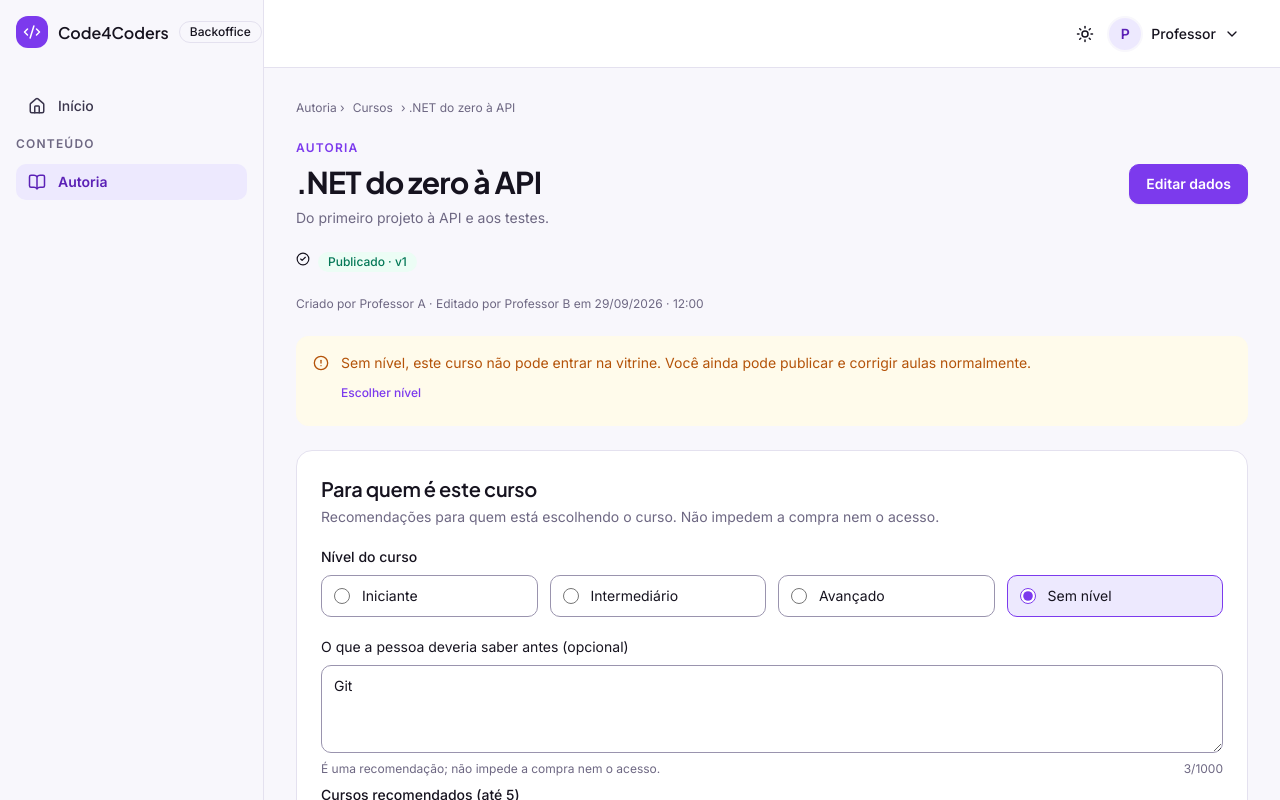
authoring prerequisite › counts text, enforces the limit and clearing sends null and an empty list
Check: the text "3/1000" is shown, box [1184,761,1223,777]
Clear the text box labelled "O que a pessoa deveria saber antes (opcional)": (772, 709) [321,665,1223,753]
(page scrolled)
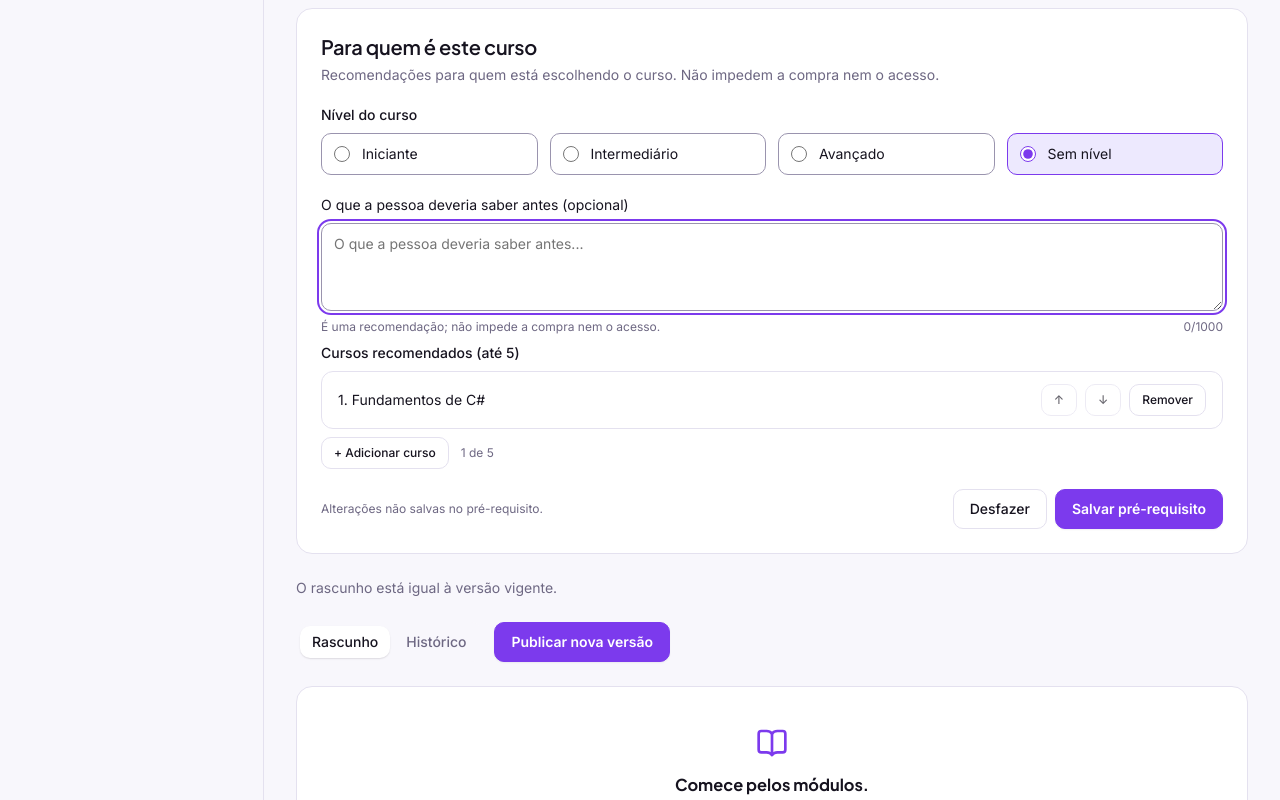
Click the button with aria-label "Remover Fundamentos de C#": (1168, 400) [1129,384,1206,416]
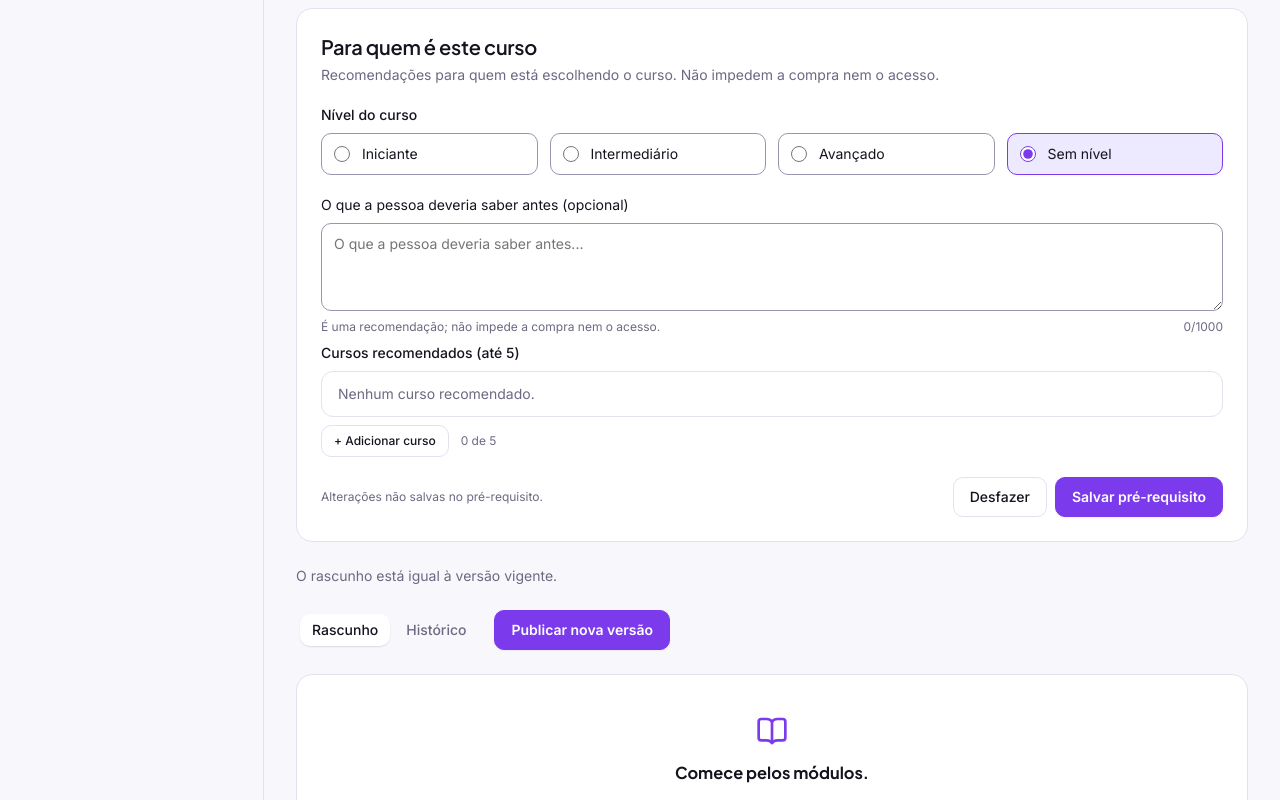
Click the button "Salvar pré-requisito": (1139, 497) [1055,477,1223,517]
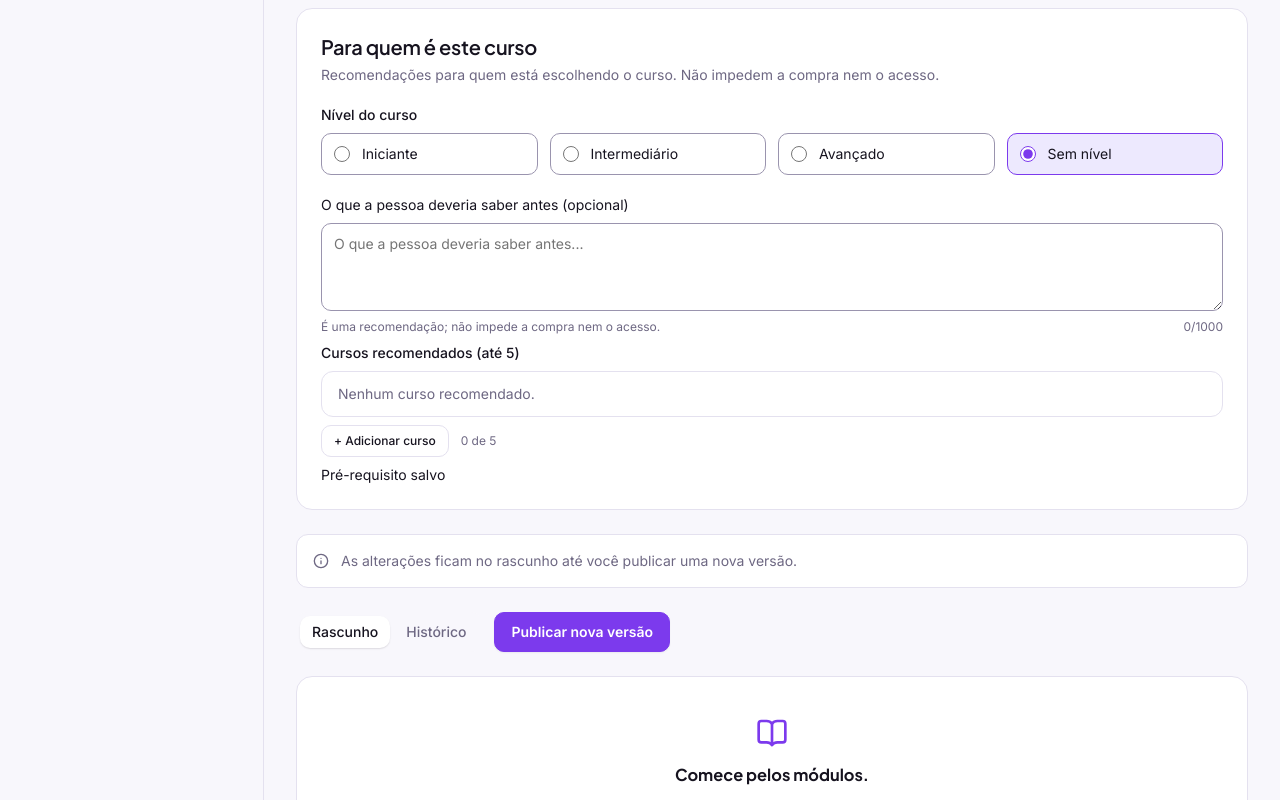
Check: the text "0/1000" is shown, box [1184,319,1223,335]
Check: the text "Pré-requisito salvo" is shown, box [321,466,445,483]
